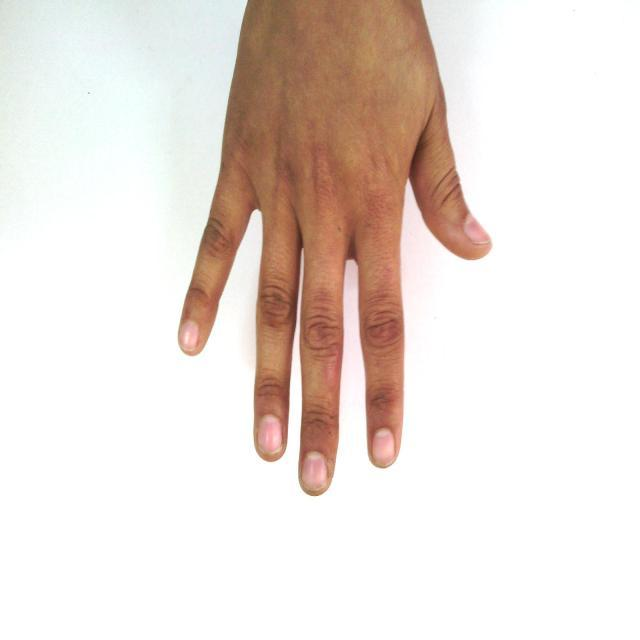Fingernail: (303, 451, 327, 492), (258, 415, 282, 455), (372, 426, 395, 467), (465, 214, 490, 245), (180, 320, 198, 351)
